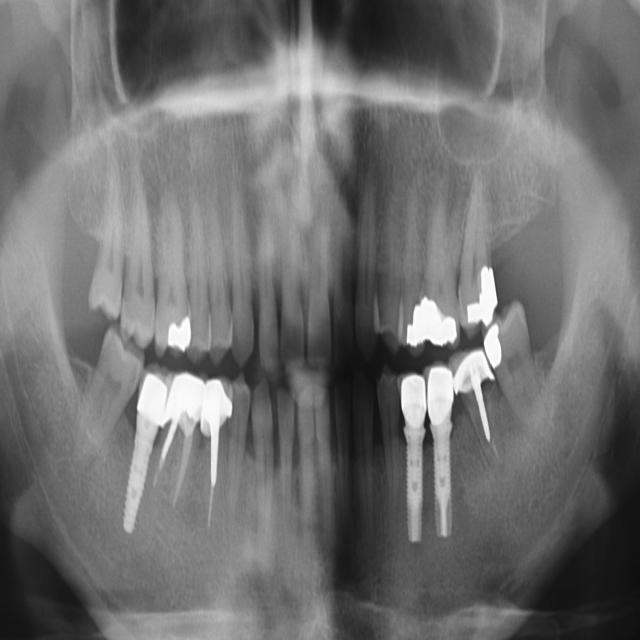infected-teeth: (147, 373, 202, 523), (195, 376, 234, 523), (460, 342, 499, 462)
